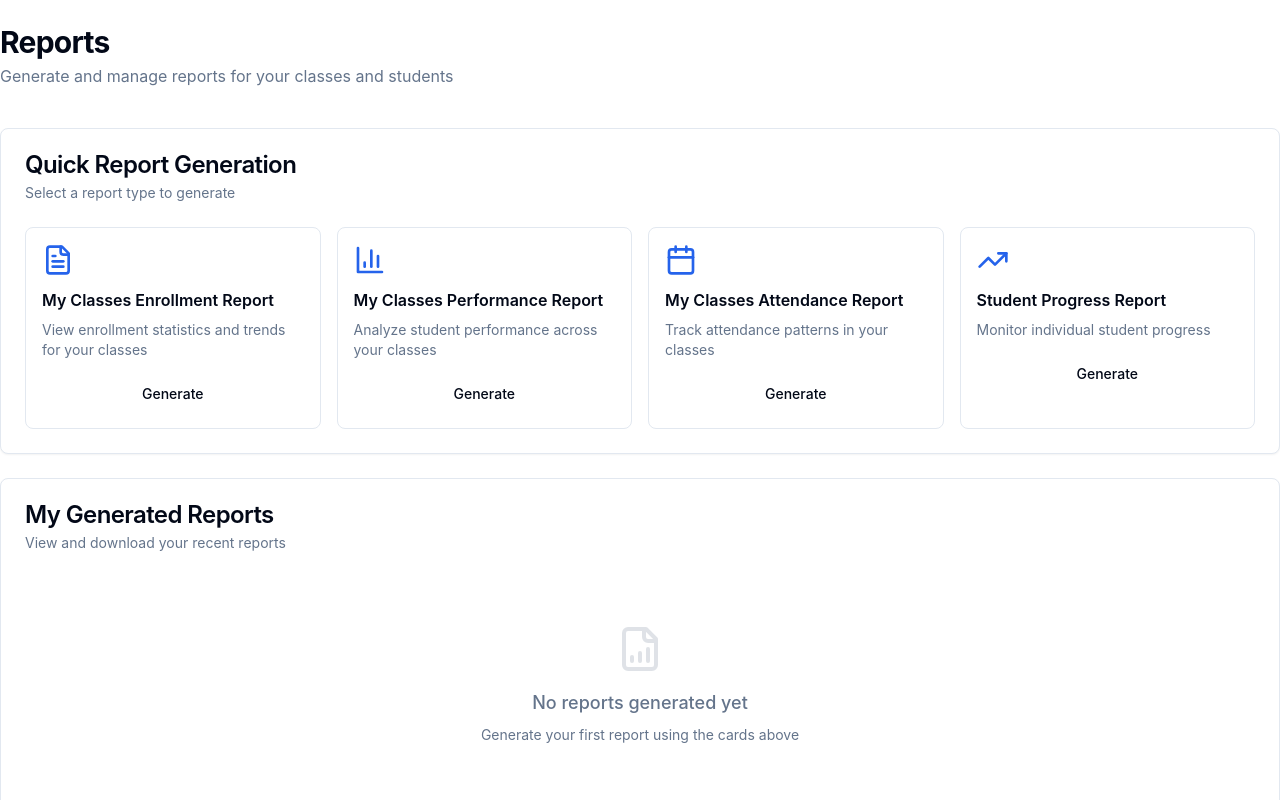
it: StaffReportsPage › Generate Report › should handle generate report error
This screenshot has width=1280, height=800.
Click the button "My Classes Enrollment Report".
click(173, 328)  # box top-left (25, 227), bottom-right (320, 429)
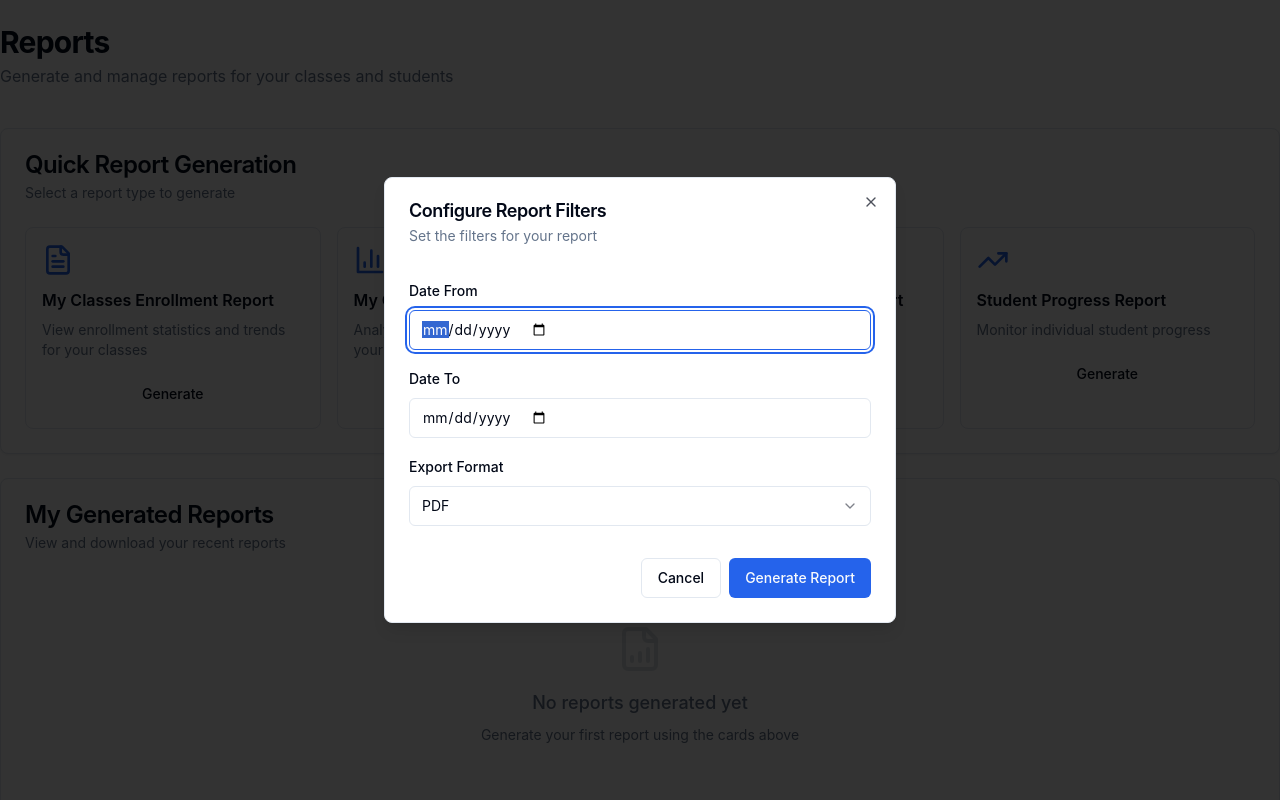
Expected: the dialog is shown, top-left (384, 177), bottom-right (896, 623)
Type "2026-01-01" into the date field labelled "Date From".
click(640, 330); type("2026-01-01")  # box top-left (409, 310), bottom-right (871, 350)
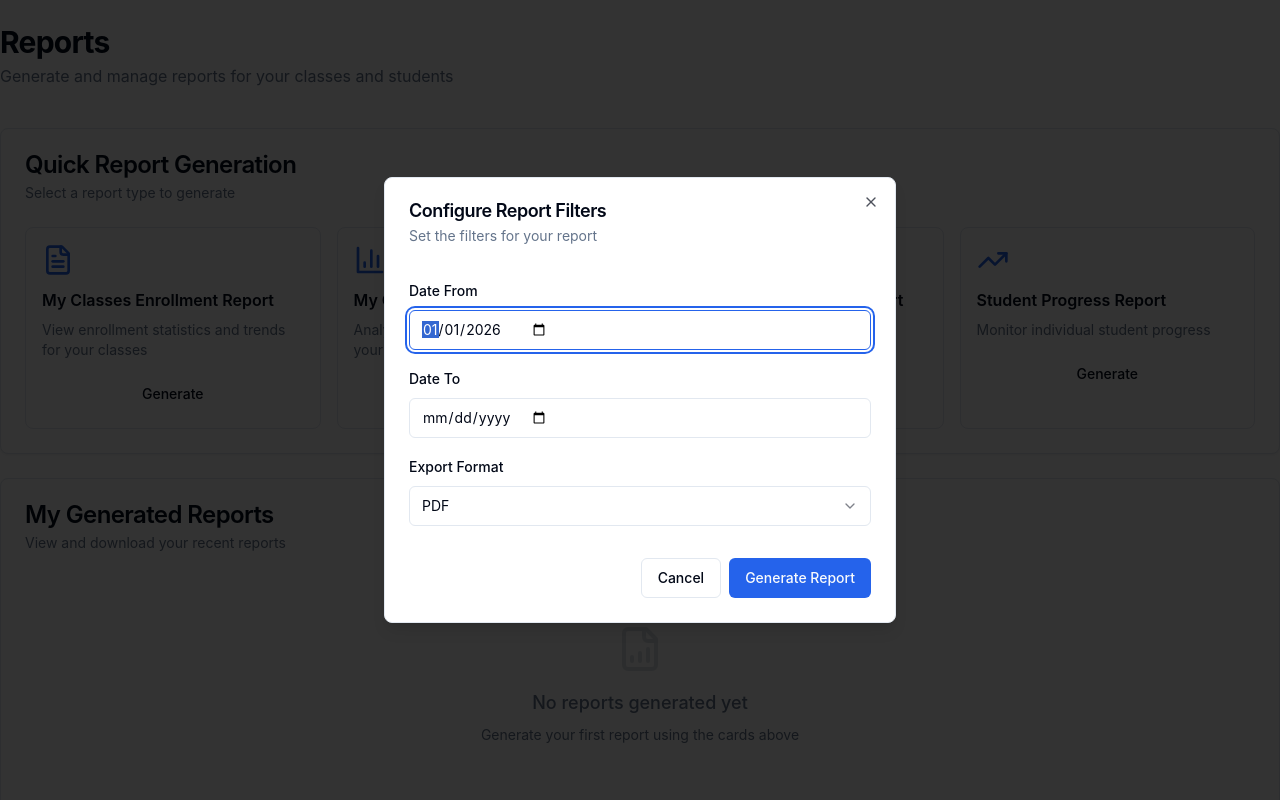
Type "2026-01-31" into the date field labelled "Date To".
click(640, 418); type("2026-01-31")  # box top-left (409, 398), bottom-right (871, 438)
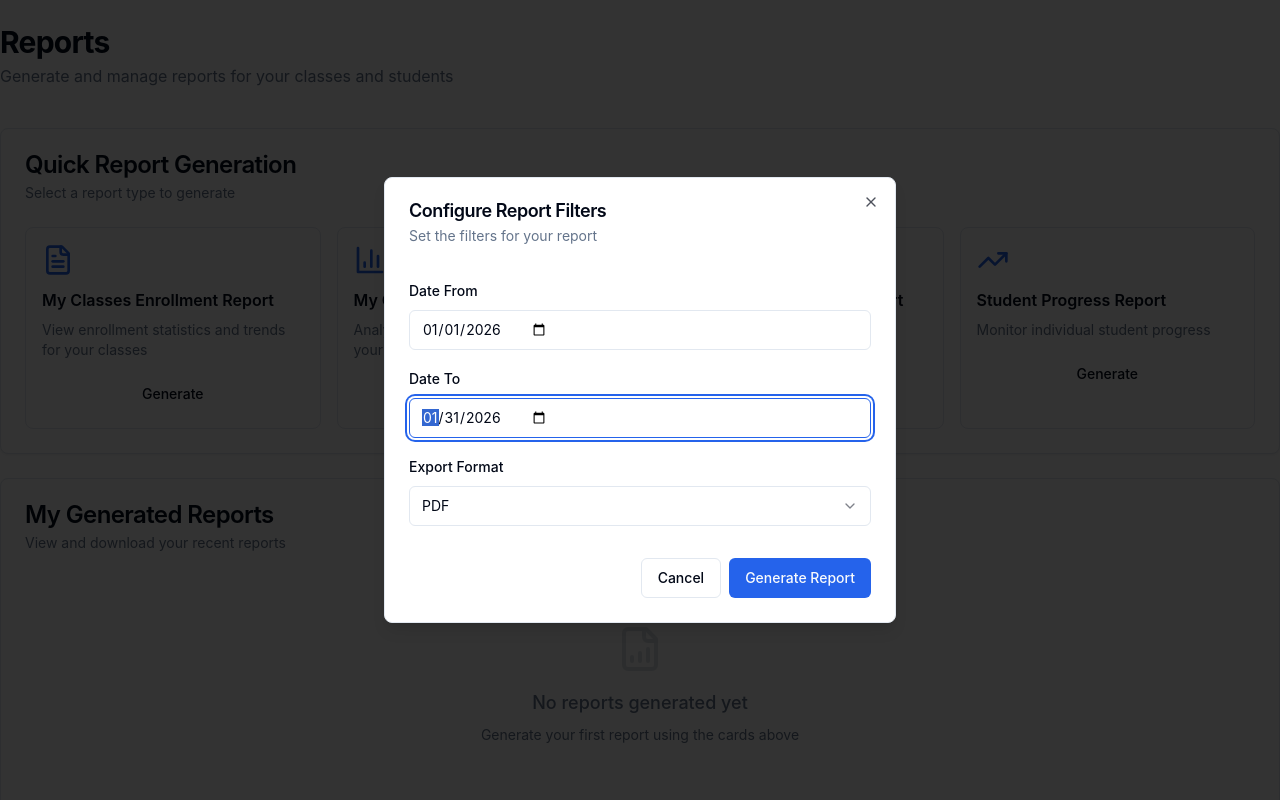
Click the button "Generate Report".
click(800, 578)  # box top-left (729, 558), bottom-right (871, 598)
(page scrolled)
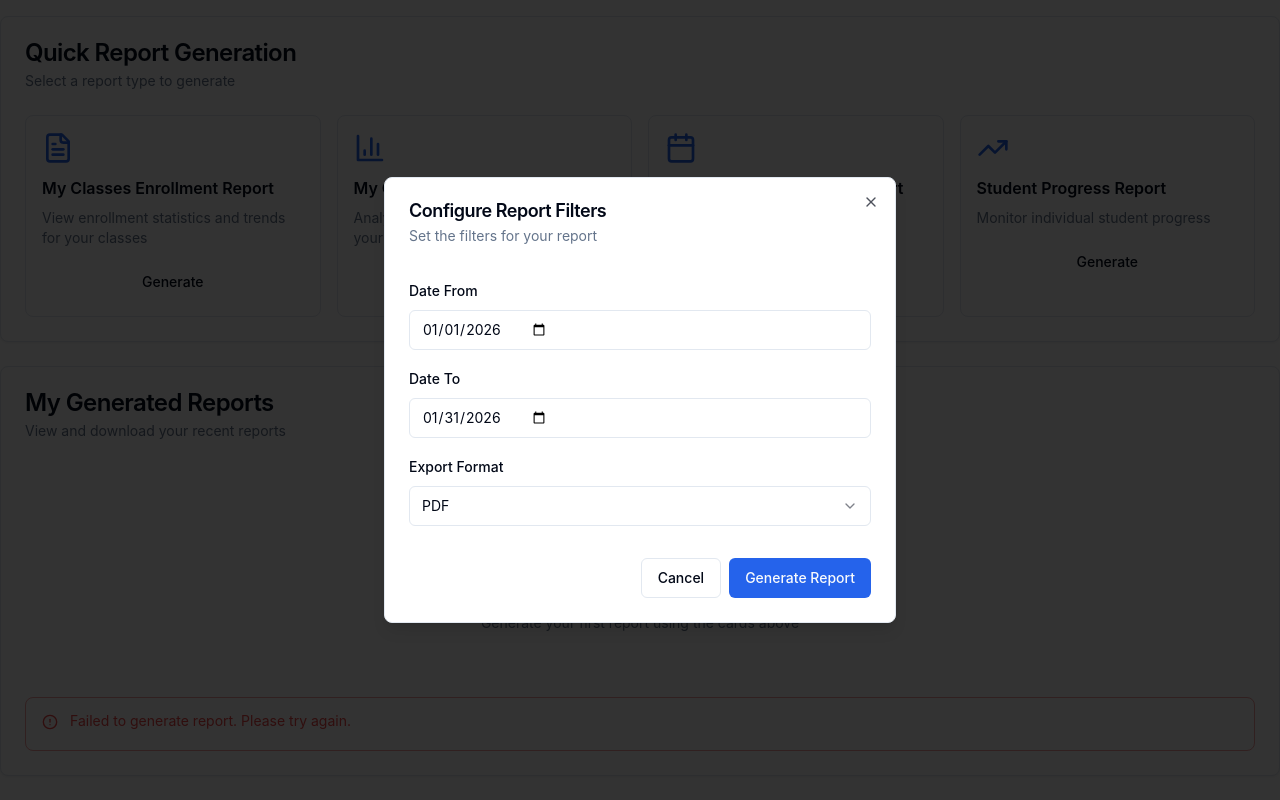
Expected: the text "Failed to generate report. Please try again." is shown, top-left (70, 712), bottom-right (351, 729)
